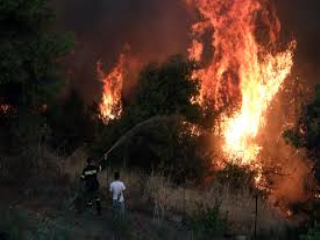fire: (194, 8, 290, 174), (94, 56, 136, 121)
